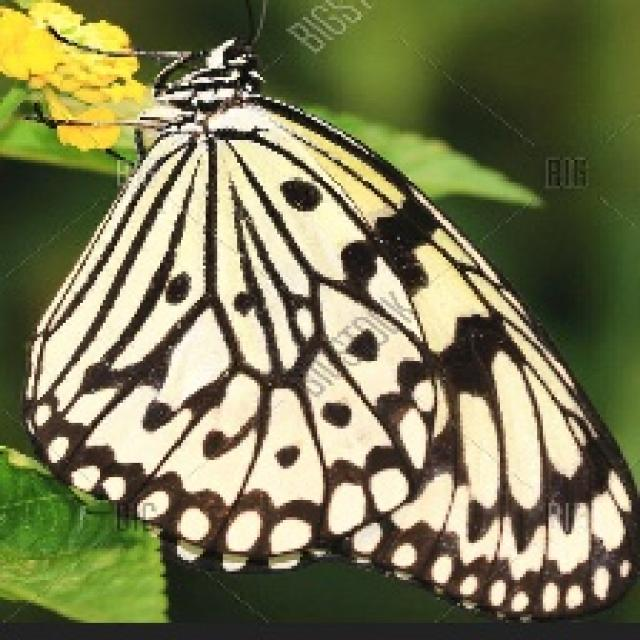butterfly: (17, 0, 637, 623)
